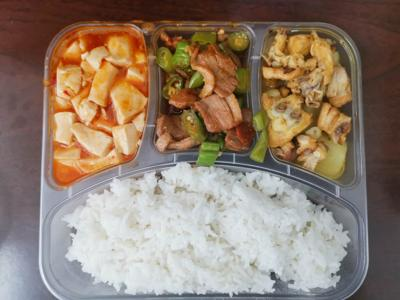cqj: (154, 26, 257, 166)
df: (44, 28, 150, 176)
jrtd: (262, 27, 364, 182)
rice: (78, 181, 345, 293)
